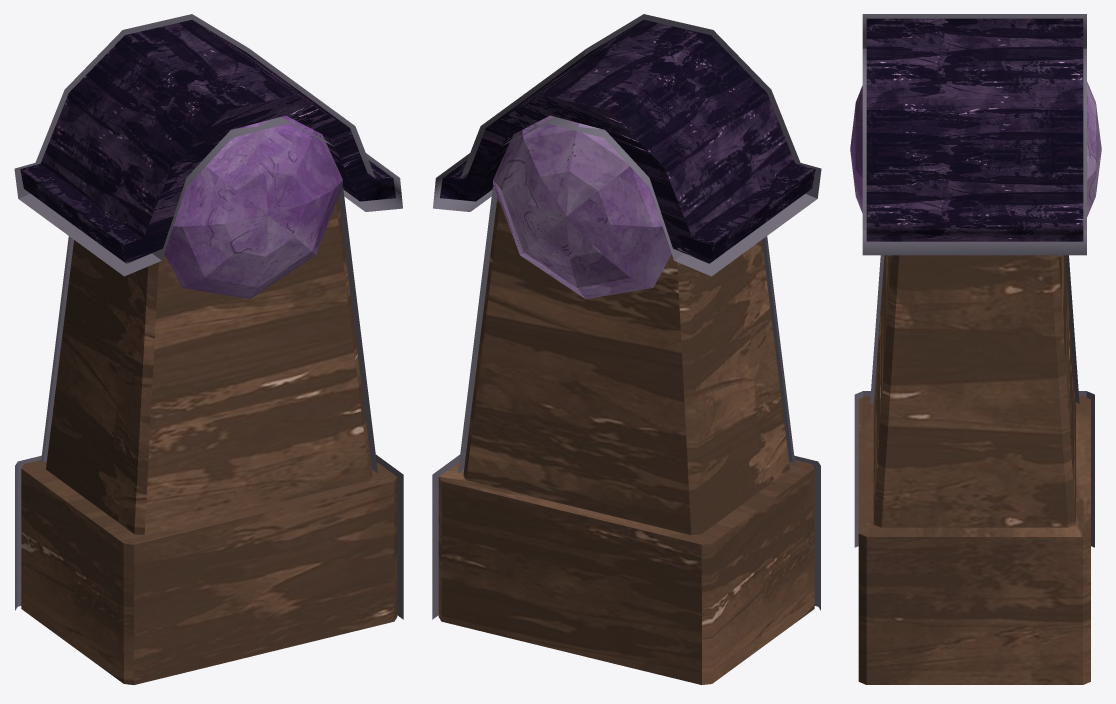
The model's file is entity43086.gltf.
3 renders of one model, left to right at view 1: azimuth 30°, elevation 25°; view 2: azimuth 150°, elevation 25°; view 3: azimuth 270°, elevation 25°, orthographic. The views are drawn at different scales.
Parts seen in each view (by area): view 1: node_mesh_fence_02; view 2: node_mesh_fence_02; view 3: node_mesh_fence_02.
Part boxes in pixels (x1,y1,x2,y2): node_mesh_fence_02: [14, 14, 403, 684]; node_mesh_fence_02: [432, 14, 821, 684]; node_mesh_fence_02: [850, 14, 1101, 684].
Bounding box in the file's own units: 72.62 × 136 × 52.93.
4 materials, 3 textured.
